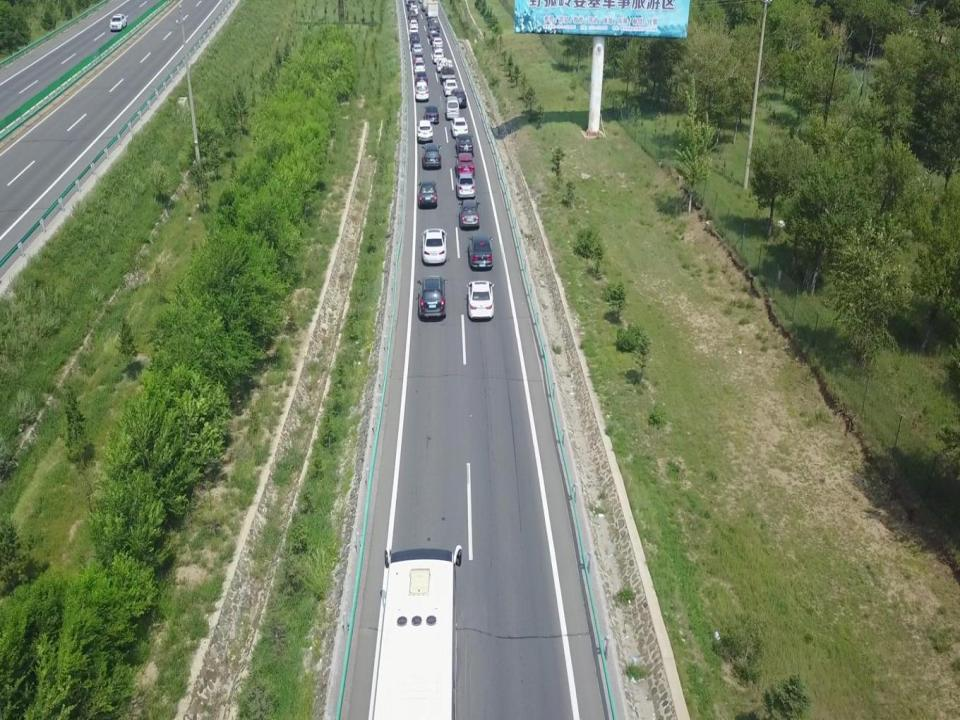bus: (368, 544, 464, 720)
car: (417, 276, 448, 318), (466, 280, 495, 320), (467, 234, 494, 270), (421, 228, 448, 264), (458, 198, 481, 228), (421, 142, 442, 170), (454, 153, 476, 179), (455, 173, 476, 198), (418, 180, 437, 206), (450, 117, 470, 138), (456, 133, 474, 155), (416, 121, 434, 143), (422, 104, 440, 124), (450, 88, 467, 109), (109, 13, 127, 30), (442, 78, 459, 96), (414, 82, 430, 101), (436, 56, 450, 72), (415, 71, 428, 84), (413, 52, 426, 65), (414, 60, 425, 74), (412, 44, 424, 56), (432, 37, 444, 49), (410, 38, 422, 50), (430, 32, 442, 44), (433, 50, 444, 63), (433, 46, 445, 57), (427, 26, 437, 38), (408, 25, 418, 37), (409, 32, 420, 42), (408, 19, 419, 29), (409, 13, 419, 24), (408, 9, 416, 20), (407, 0, 415, 10)
truck: (440, 59, 456, 80), (426, 0, 438, 21), (421, 0, 434, 11)
van: (445, 95, 460, 120), (429, 18, 441, 33), (410, 5, 419, 15)
